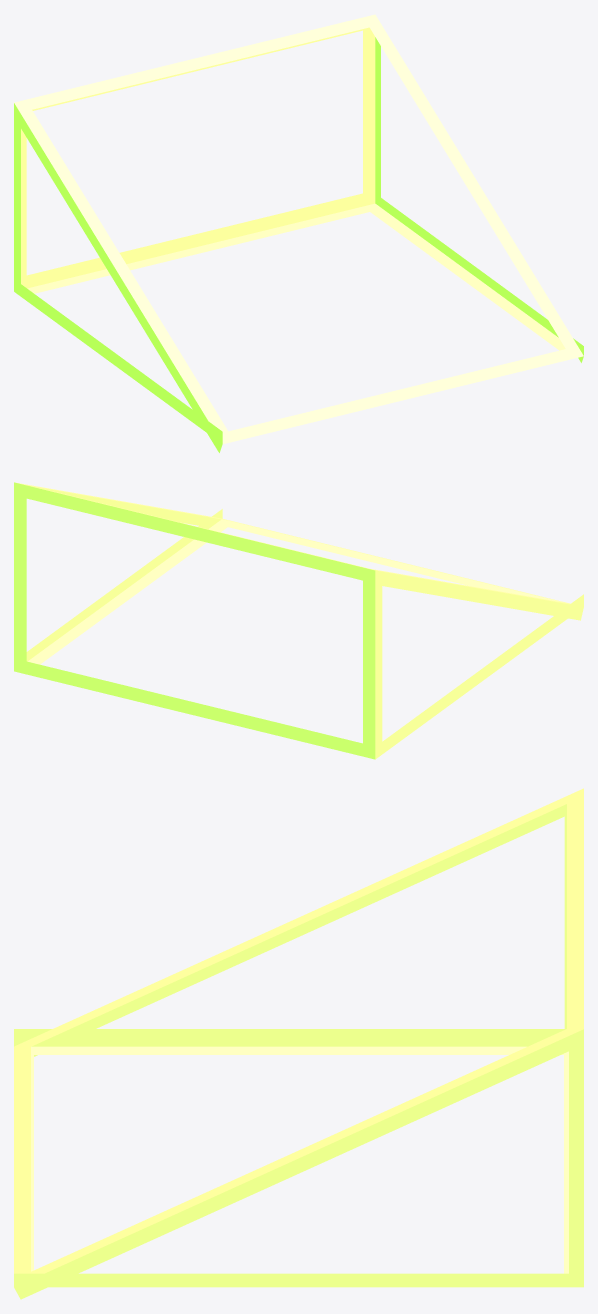
Rendered from r3c5_highlight_green.glb.
3 views of the same model, one above another, from view 1: azimuth 30°, elevation 25°; view 2: azimuth 150°, elevation 25°; view 3: azimuth 270°, elevation 25° (orthographic). The views are drawn at different scales.
Visible parts, largest first — view 1: r3c5_highlight_green; view 2: r3c5_highlight_green; view 3: r3c5_highlight_green.
Part boxes in pixels (x1=…): r3c5_highlight_green: x1=14, y1=14, x2=583, y2=452; r3c5_highlight_green: x1=14, y1=482, x2=583, y2=759; r3c5_highlight_green: x1=14, y1=788, x2=583, y2=1299.
Size of the model in its own units: 2 by 1.06 by 2.
